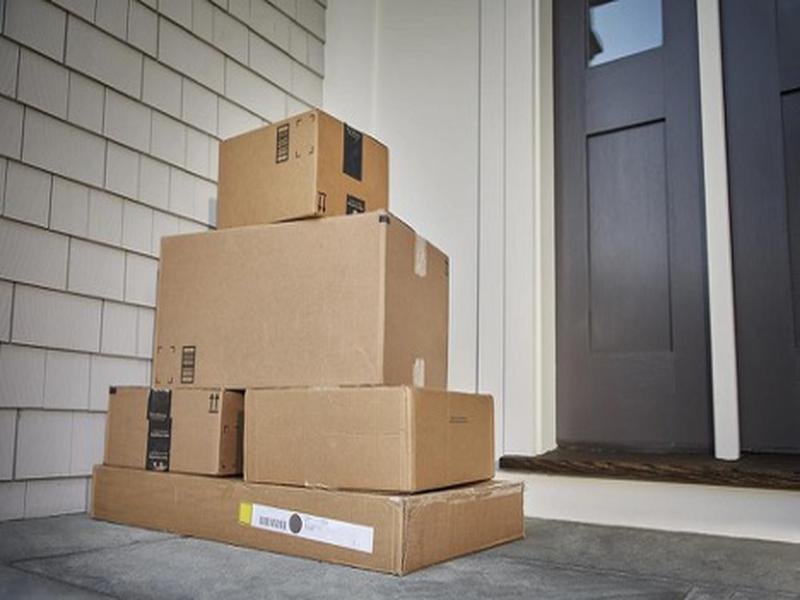package: (145, 203, 456, 390), (88, 458, 531, 582), (240, 382, 498, 498), (207, 100, 395, 230), (99, 381, 243, 481)
